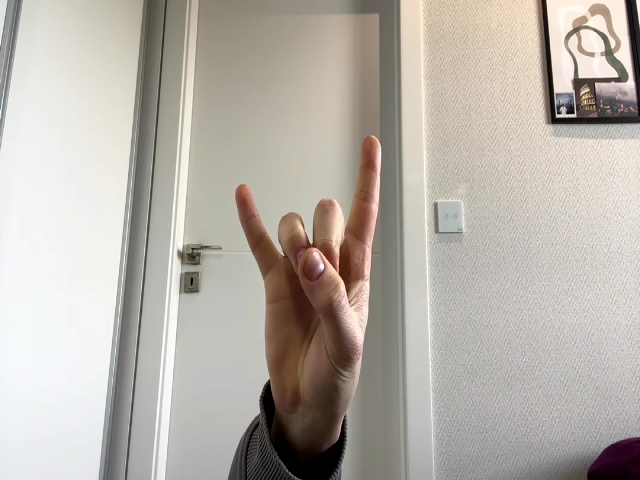Y: (235, 136, 380, 407)
